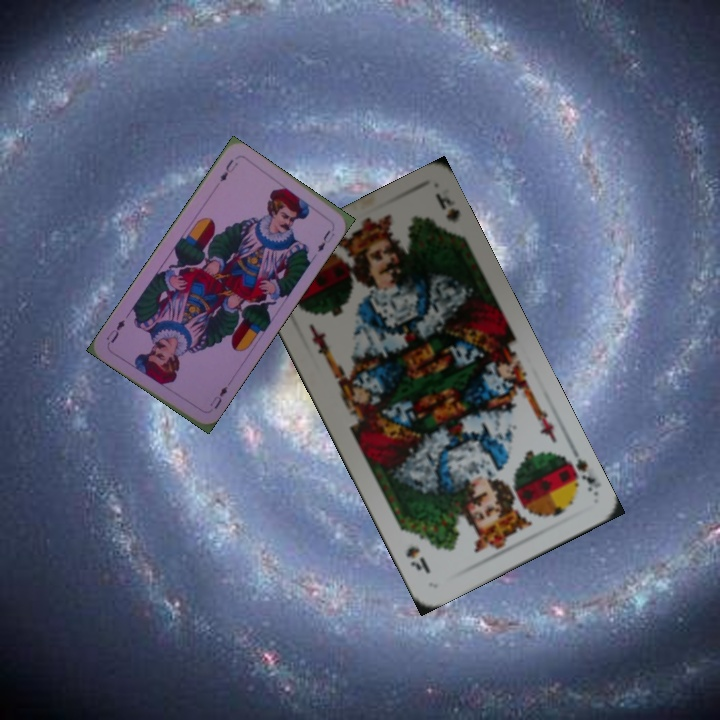EU: (205, 379, 232, 412), (216, 155, 240, 184)
SK: (556, 443, 601, 498)
